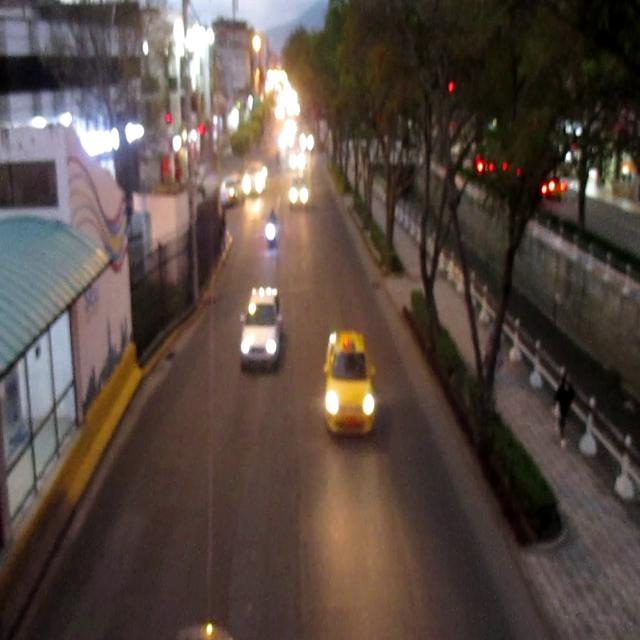MOTORCYCLE: (268, 206, 278, 248)
SED: (326, 334, 374, 433)
